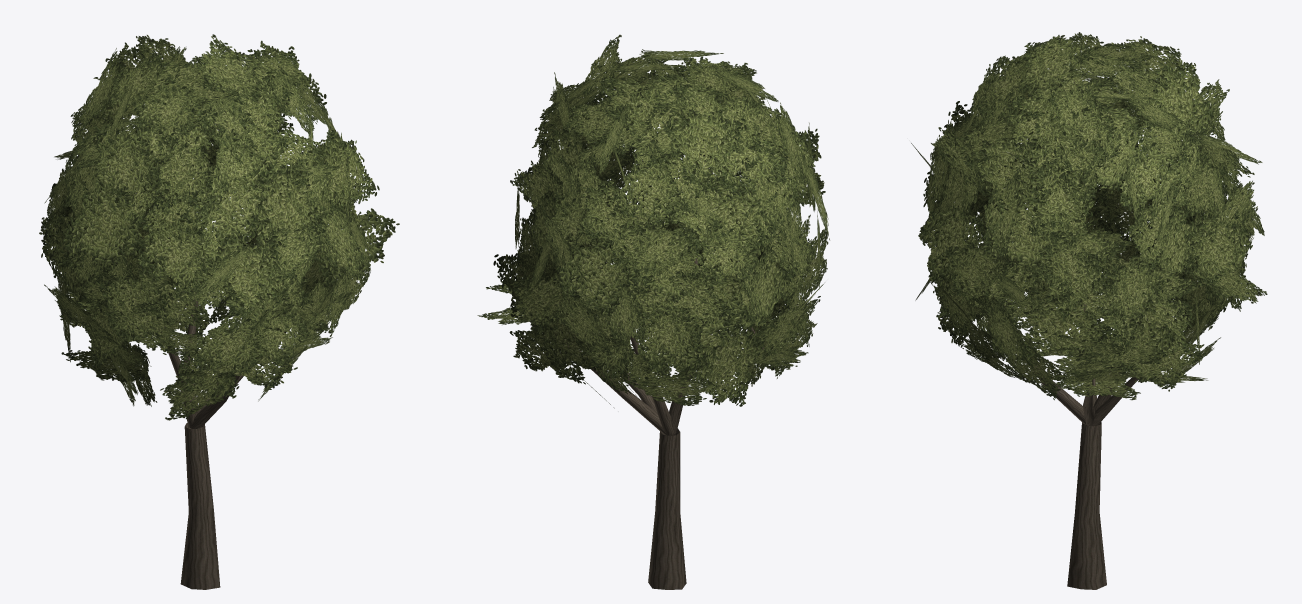
File: bay.glb
3 views of the same model, side by side, from view 1: azimuth 30°, elevation 25°; view 2: azimuth 150°, elevation 25°; view 3: azimuth 270°, elevation 25° (orthographic). The views are drawn at different scales.
Visible parts, largest first — view 1: bay_lod0_1, bay_lod0_0; view 2: bay_lod0_1, bay_lod0_0; view 3: bay_lod0_1, bay_lod0_0.
Boxes of the visible parts, bbox=[...] form: bay_lod0_1: bbox=[39, 34, 399, 420]; bay_lod0_0: bbox=[161, 293, 284, 589]; bay_lod0_1: bbox=[477, 34, 829, 408]; bay_lod0_0: bbox=[563, 256, 766, 589]; bay_lod0_1: bbox=[911, 32, 1267, 400]; bay_lod0_0: bbox=[991, 289, 1138, 589].
Size of what is drawn, in the model's own units: 9.38 by 14.78 by 9.54.
2 materials, 2 textured.
